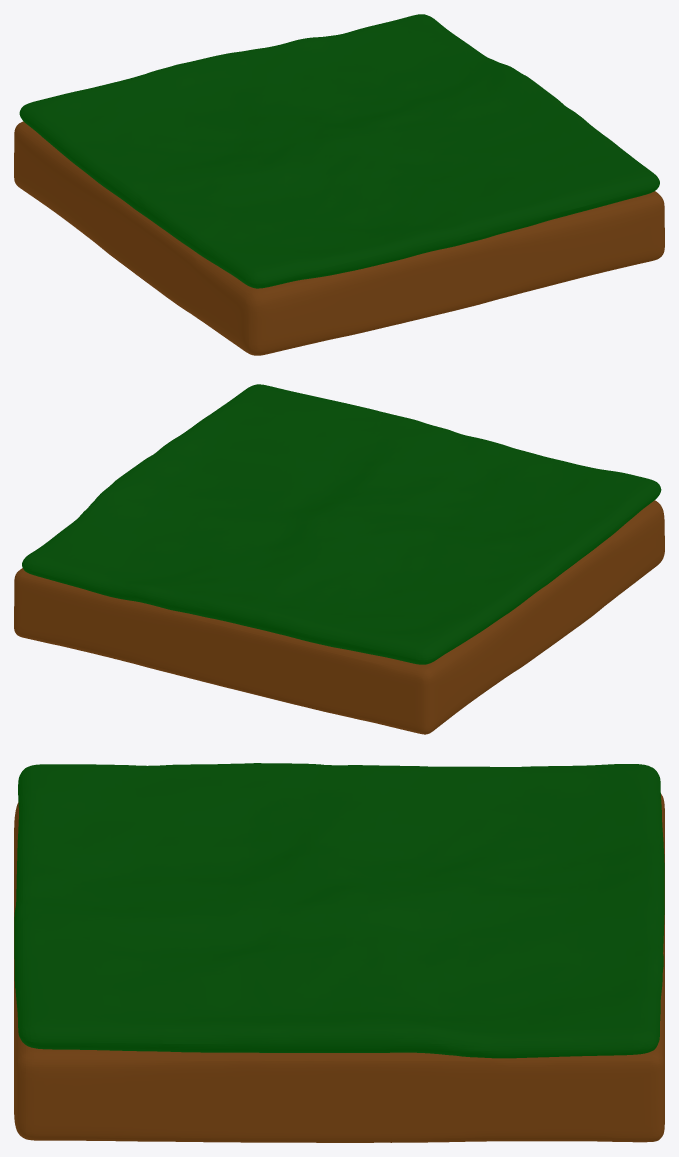
File: Boden.fbx
3 views of the same model, one above another, from view 1: azimuth 30°, elevation 25°; view 2: azimuth 150°, elevation 25°; view 3: azimuth 270°, elevation 25° (orthographic). The views are drawn at different scales.
Parts seen in each view (by area): view 1: instance_mesh, instance_mesh_1; view 2: instance_mesh, instance_mesh_1; view 3: instance_mesh, instance_mesh_1.
Part boxes in pixels (x1,y1,x2,y2): instance_mesh: (19,14,659,288); instance_mesh_1: (14,121,664,355); instance_mesh: (22,384,661,664); instance_mesh_1: (14,500,664,734); instance_mesh: (14,763,664,1058); instance_mesh_1: (14,794,664,1142).
Bounding box in the file's own units: 0.4375 × 0.0859 × 0.4375.
